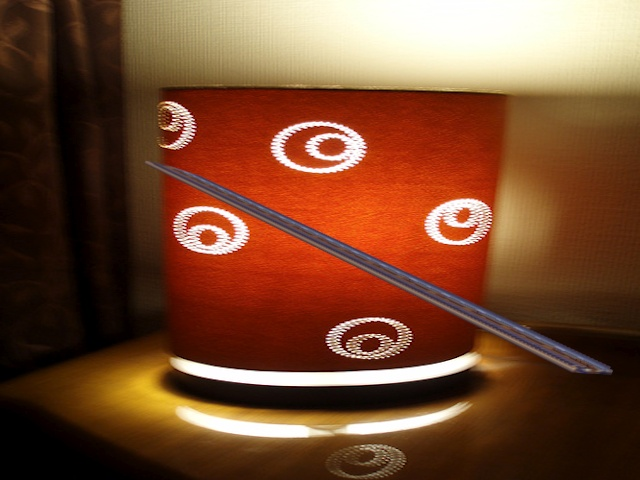ruler: (144, 160, 624, 385)
